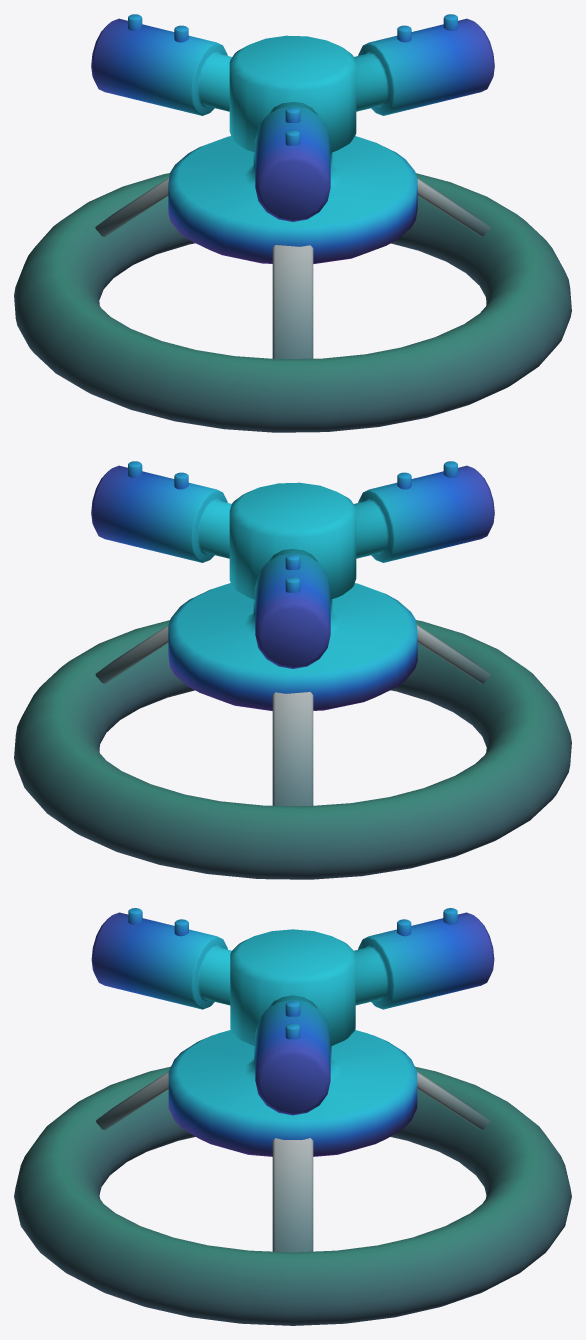
File: Sprinkler.fbx
3 views of the same model, one above another, from view 1: azimuth 30°, elevation 25°; view 2: azimuth 150°, elevation 25°; view 3: azimuth 270°, elevation 25° (orthographic).
Parts seen in each view (by area): view 1: Base, Middle, Spinners, Spokes, Spewers; view 2: Base, Middle, Spinners, Spokes, Spewers; view 3: Base, Middle, Spinners, Spokes, Spewers.
Boxes of the visible parts, bbox=[...] form: Base: bbox=[14, 173, 571, 432]; Middle: bbox=[168, 35, 417, 263]; Spinners: bbox=[91, 18, 494, 221]; Spokes: bbox=[95, 177, 490, 358]; Spewers: bbox=[128, 14, 457, 145]; Base: bbox=[14, 620, 571, 879]; Middle: bbox=[168, 482, 417, 710]; Spinners: bbox=[91, 465, 494, 668]; Spokes: bbox=[95, 624, 490, 805]; Spewers: bbox=[128, 461, 457, 592]; Base: bbox=[14, 1066, 571, 1325]; Middle: bbox=[168, 929, 417, 1156]; Spinners: bbox=[91, 912, 494, 1115]; Spokes: bbox=[96, 1071, 489, 1252]; Spewers: bbox=[128, 908, 457, 1039].
Size of the model in its own units: 140 by 75.08 by 140.
Materials: 1 (1 with a texture image).
